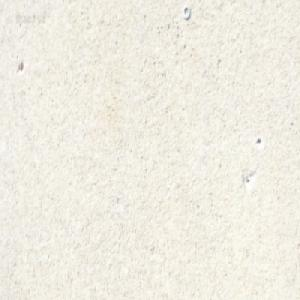Washer: (182, 5, 190, 20)
